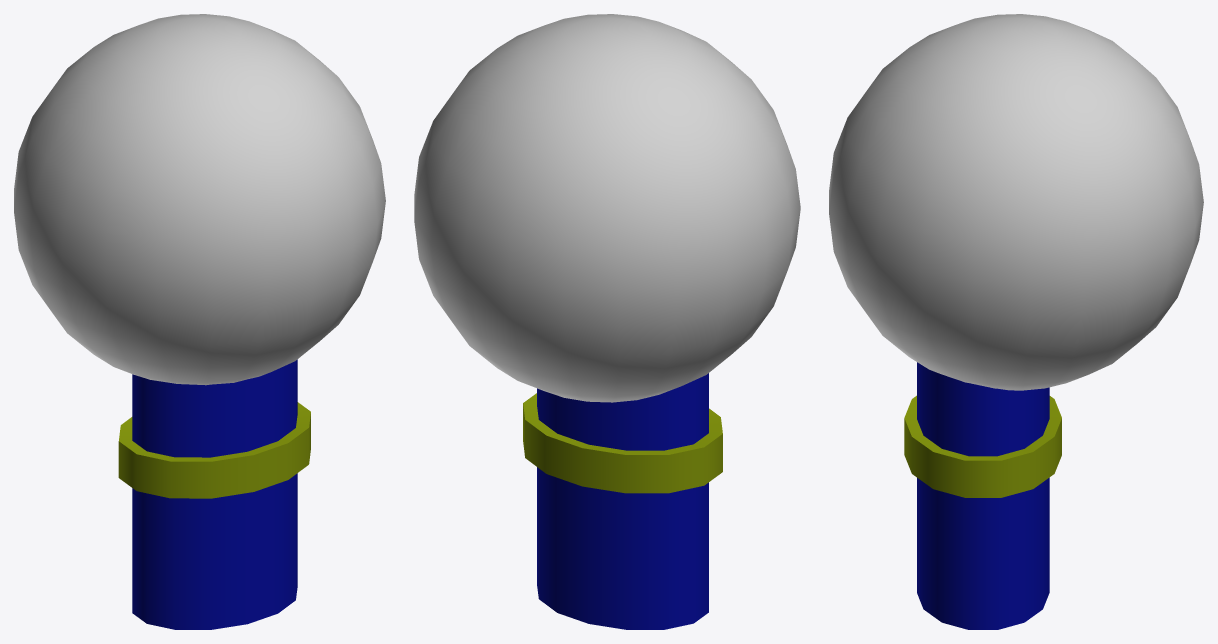
The model's file is ColonistFBX.fbx.
3 renders of one model, left to right at view 1: azimuth 30°, elevation 25°; view 2: azimuth 150°, elevation 25°; view 3: azimuth 270°, elevation 25°, orthographic. The views are drawn at different scales.
Visible parts, largest first — view 1: helmet, body, belt; view 2: helmet, body, belt; view 3: helmet, body, belt.
Boxes of the visible parts, <box> form: helmet: <box>14,14,385,385</box>; body: <box>132,359,297,629</box>; belt: <box>118,402,310,498</box>; helmet: <box>414,14,800,402</box>; body: <box>537,373,708,629</box>; belt: <box>523,393,722,493</box>; helmet: <box>829,14,1203,390</box>; body: <box>917,362,1049,629</box>; belt: <box>904,395,1061,497</box>.
Size of the model in its own units: 25.4 by 41.86 by 25.33.
